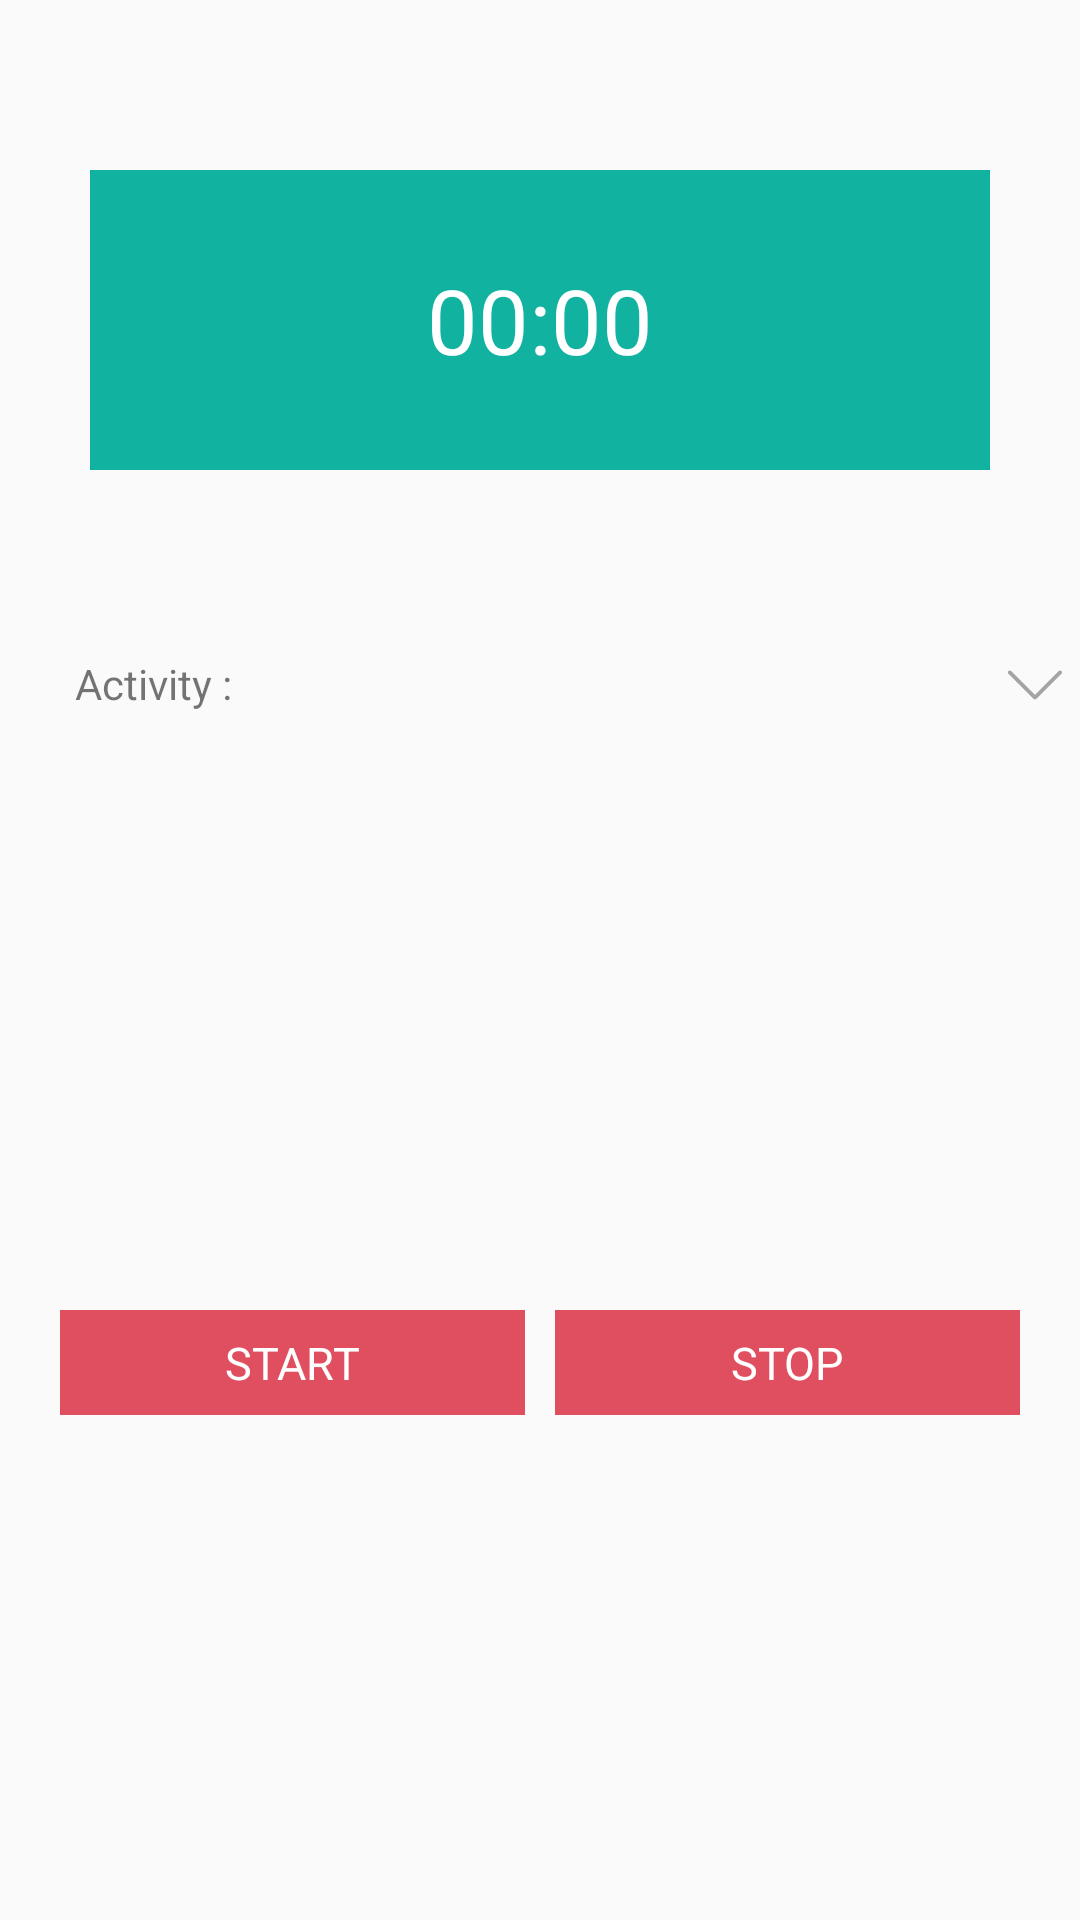

Locate icon controls on the screen. Image size 1080x1920, boxes as (x1, y1, x2, y2).
arrow: (1008, 670, 1062, 700)
